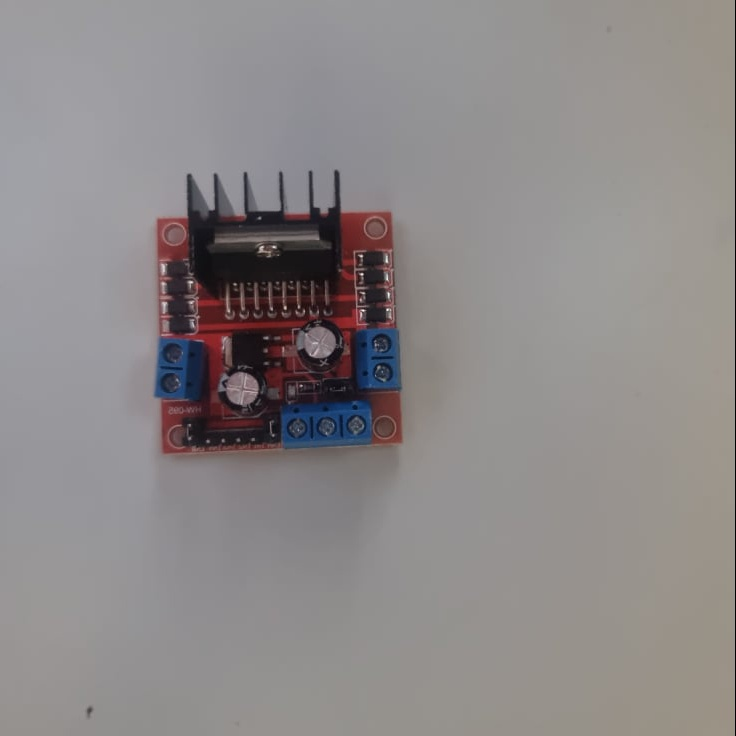MOTOR: (155, 174, 406, 449)
